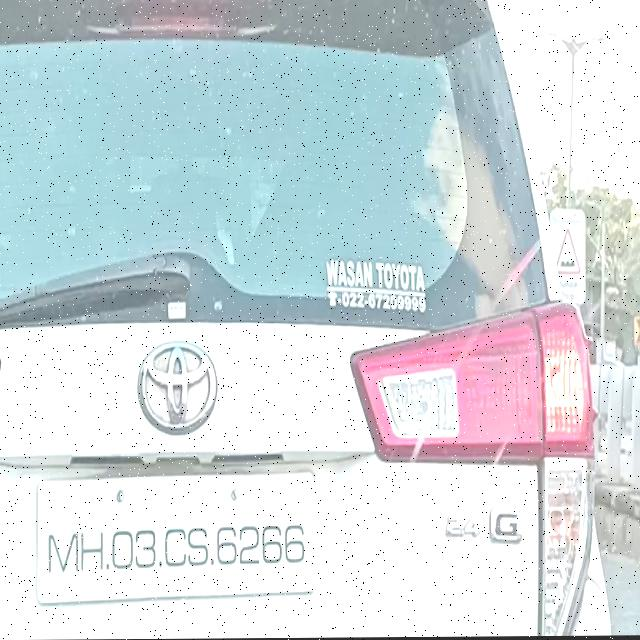plate: (34, 470, 319, 614)
